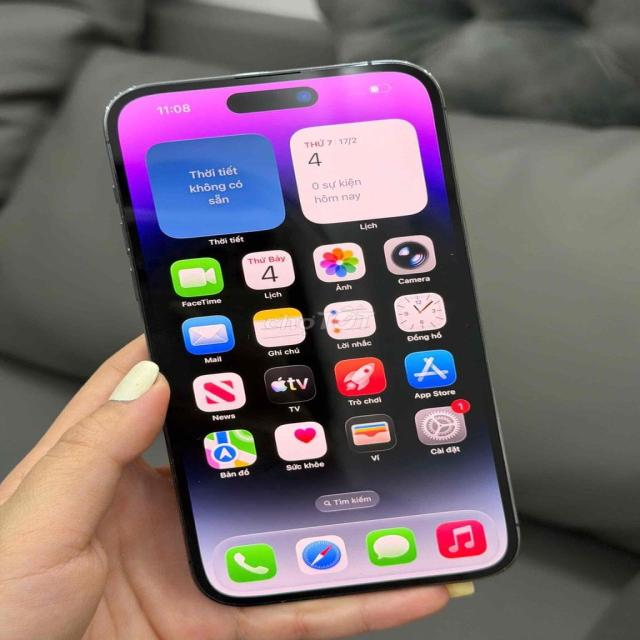gen_14: (104, 54, 542, 610)
